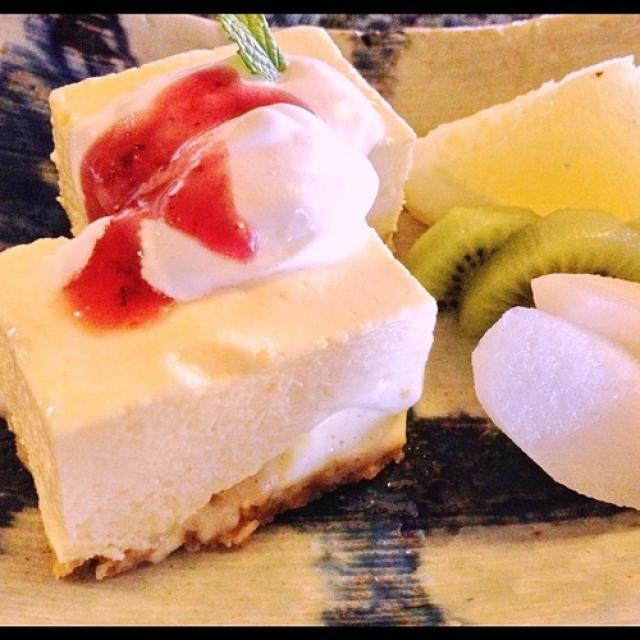Rare cheese cake: (4, 18, 478, 584)
